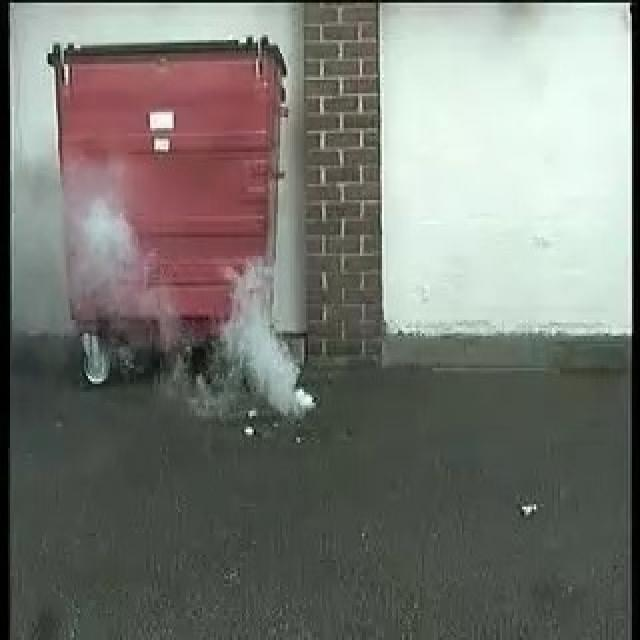smoke: (207, 262, 316, 415)
